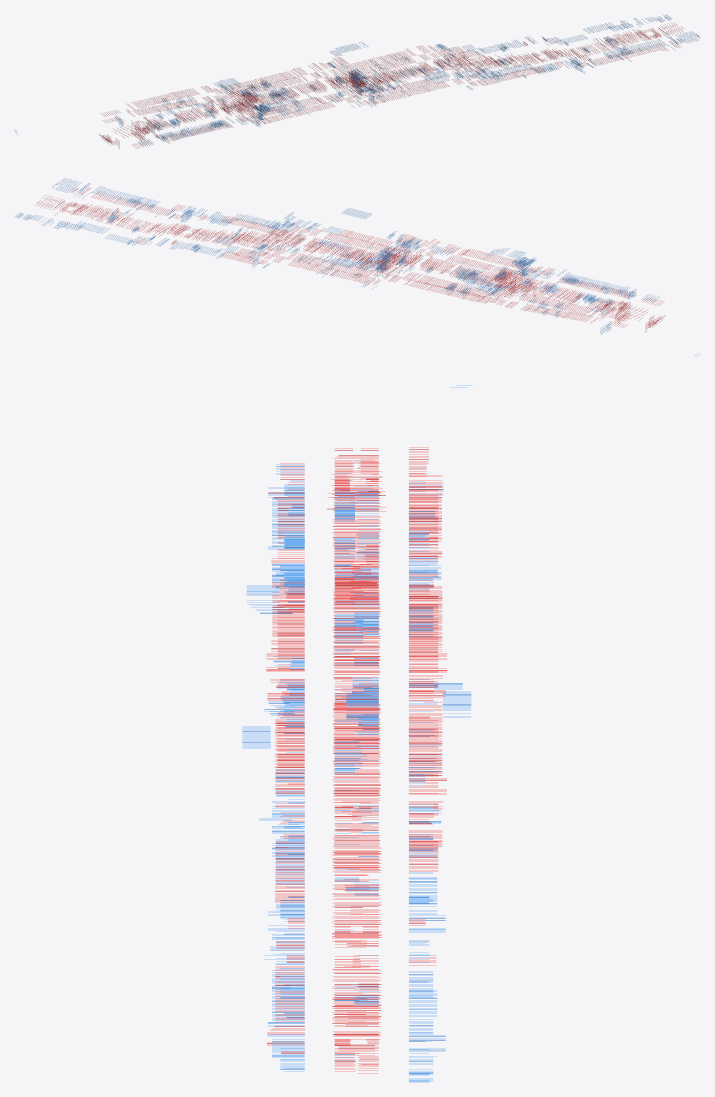
The picture shows the model from 3 angles, top to bottom: view 1: azimuth 30°, elevation 25°; view 2: azimuth 150°, elevation 25°; view 3: azimuth 270°, elevation 25°; orthographic projection. The views are drawn at different scales.
Parts seen in each view (by area): view 1: 锚索_1998-12_对穿红, 锚索_1999-01_对穿红, 锚索_1999-04_对穿红, 锚索_1999-02_对穿红, 锚索_1999-05_对穿红, 锚索_1999-05_端头蓝, 锚索_1999-06_端头蓝, 锚索_1998-05_对穿红, 锚索_1999-02_端头蓝, 锚索_1998-05_端头蓝, 锚索_1998-06_对穿红, 锚索_1999-06_对穿红 (+10 smaller); view 2: 锚索_1998-12_对穿红, 锚索_1999-01_对穿红, 锚索_1999-04_对穿红, 锚索_1999-02_对穿红, 锚索_1999-05_对穿红, 锚索_1999-05_端头蓝, 锚索_1999-06_端头蓝, 锚索_1998-05_对穿红, 锚索_1999-02_端头蓝, 锚索_1998-05_端头蓝, 锚索_1998-06_对穿红, 锚索_1998-12_端头蓝 (+7 smaller); view 3: 锚索_1998-12_对穿红, 锚索_1999-01_对穿红, 锚索_1999-04_对穿红, 锚索_1999-02_对穿红, 锚索_1999-05_端头蓝, 锚索_1999-05_对穿红, 锚索_1999-06_端头蓝, 锚索_1998-05_对穿红, 锚索_1999-02_端头蓝, 锚索_1998-05_端头蓝, 锚索_1998-07_对穿红, 锚索_1998-12_端头蓝 (+12 smaller).
Boxes of the visible parts, left/top/right/bottom form: 锚索_1998-12_对穿红: left=131, top=65, right=431, bottom=136; 锚索_1999-01_对穿红: left=128, top=38, right=617, bottom=131; 锚索_1999-04_对穿红: left=123, top=29, right=651, bottom=136; 锚索_1999-02_对穿红: left=100, top=53, right=560, bottom=143; 锚索_1999-05_对穿红: left=131, top=27, right=666, bottom=141; 锚索_1999-05_端头蓝: left=147, top=23, right=682, bottom=131; 锚索_1999-06_端头蓝: left=241, top=18, right=647, bottom=125; 锚索_1998-05_对穿红: left=143, top=57, right=479, bottom=127; 锚索_1999-02_端头蓝: left=115, top=24, right=632, bottom=145; 锚索_1998-05_端头蓝: left=146, top=42, right=487, bottom=128; 锚索_1998-06_对穿红: left=242, top=54, right=434, bottom=120; 锚索_1999-06_对穿红: left=243, top=38, right=638, bottom=111; 锚索_1998-12_对穿红: left=304, top=242, right=630, bottom=319; 锚索_1999-01_对穿红: left=107, top=212, right=617, bottom=323; 锚索_1999-04_对穿红: left=63, top=203, right=640, bottom=317; 锚索_1999-02_对穿红: left=193, top=214, right=636, bottom=327; 锚索_1999-05_对穿红: left=55, top=200, right=630, bottom=323; 锚索_1999-05_端头蓝: left=75, top=182, right=609, bottom=315; 锚索_1999-06_端头蓝: left=40, top=200, right=527, bottom=283; 锚索_1998-05_对穿红: left=289, top=221, right=614, bottom=305; 锚索_1999-02_端头蓝: left=57, top=199, right=659, bottom=332; 锚索_1998-05_端头蓝: left=283, top=213, right=616, bottom=308; 锚索_1998-06_对穿红: left=272, top=230, right=545, bottom=275; 锚索_1998-12_端头蓝: left=424, top=266, right=700, bottom=356; 锚索_1998-12_对穿红: left=272, top=471, right=442, bottom=791; 锚索_1999-01_对穿红: left=266, top=489, right=442, bottom=1001; 锚索_1999-04_对穿红: left=275, top=473, right=441, bottom=1043; 锚索_1999-02_对穿红: left=266, top=447, right=446, bottom=923; 锚索_1999-05_端头蓝: left=259, top=501, right=445, bottom=1042; 锚索_1999-05_对穿红: left=275, top=479, right=442, bottom=1055; 锚索_1999-06_端头蓝: left=272, top=570, right=445, bottom=1056; 锚索_1998-05_对穿红: left=267, top=480, right=445, bottom=818; 锚索_1999-02_端头蓝: left=247, top=464, right=443, bottom=1041; 锚索_1998-05_端头蓝: left=242, top=489, right=471, bottom=826; 锚索_1998-07_对穿红: left=275, top=448, right=446, bottom=1045; 锚索_1998-12_端头蓝: left=268, top=385, right=472, bottom=665.
Size of the model in its own units: 1825 by 122 by 283.
